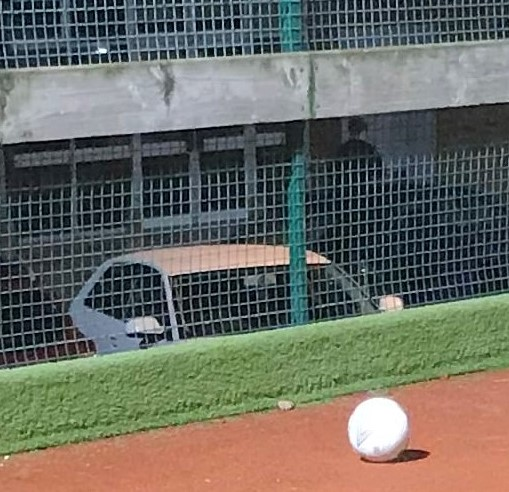football: (347, 393, 410, 460)
